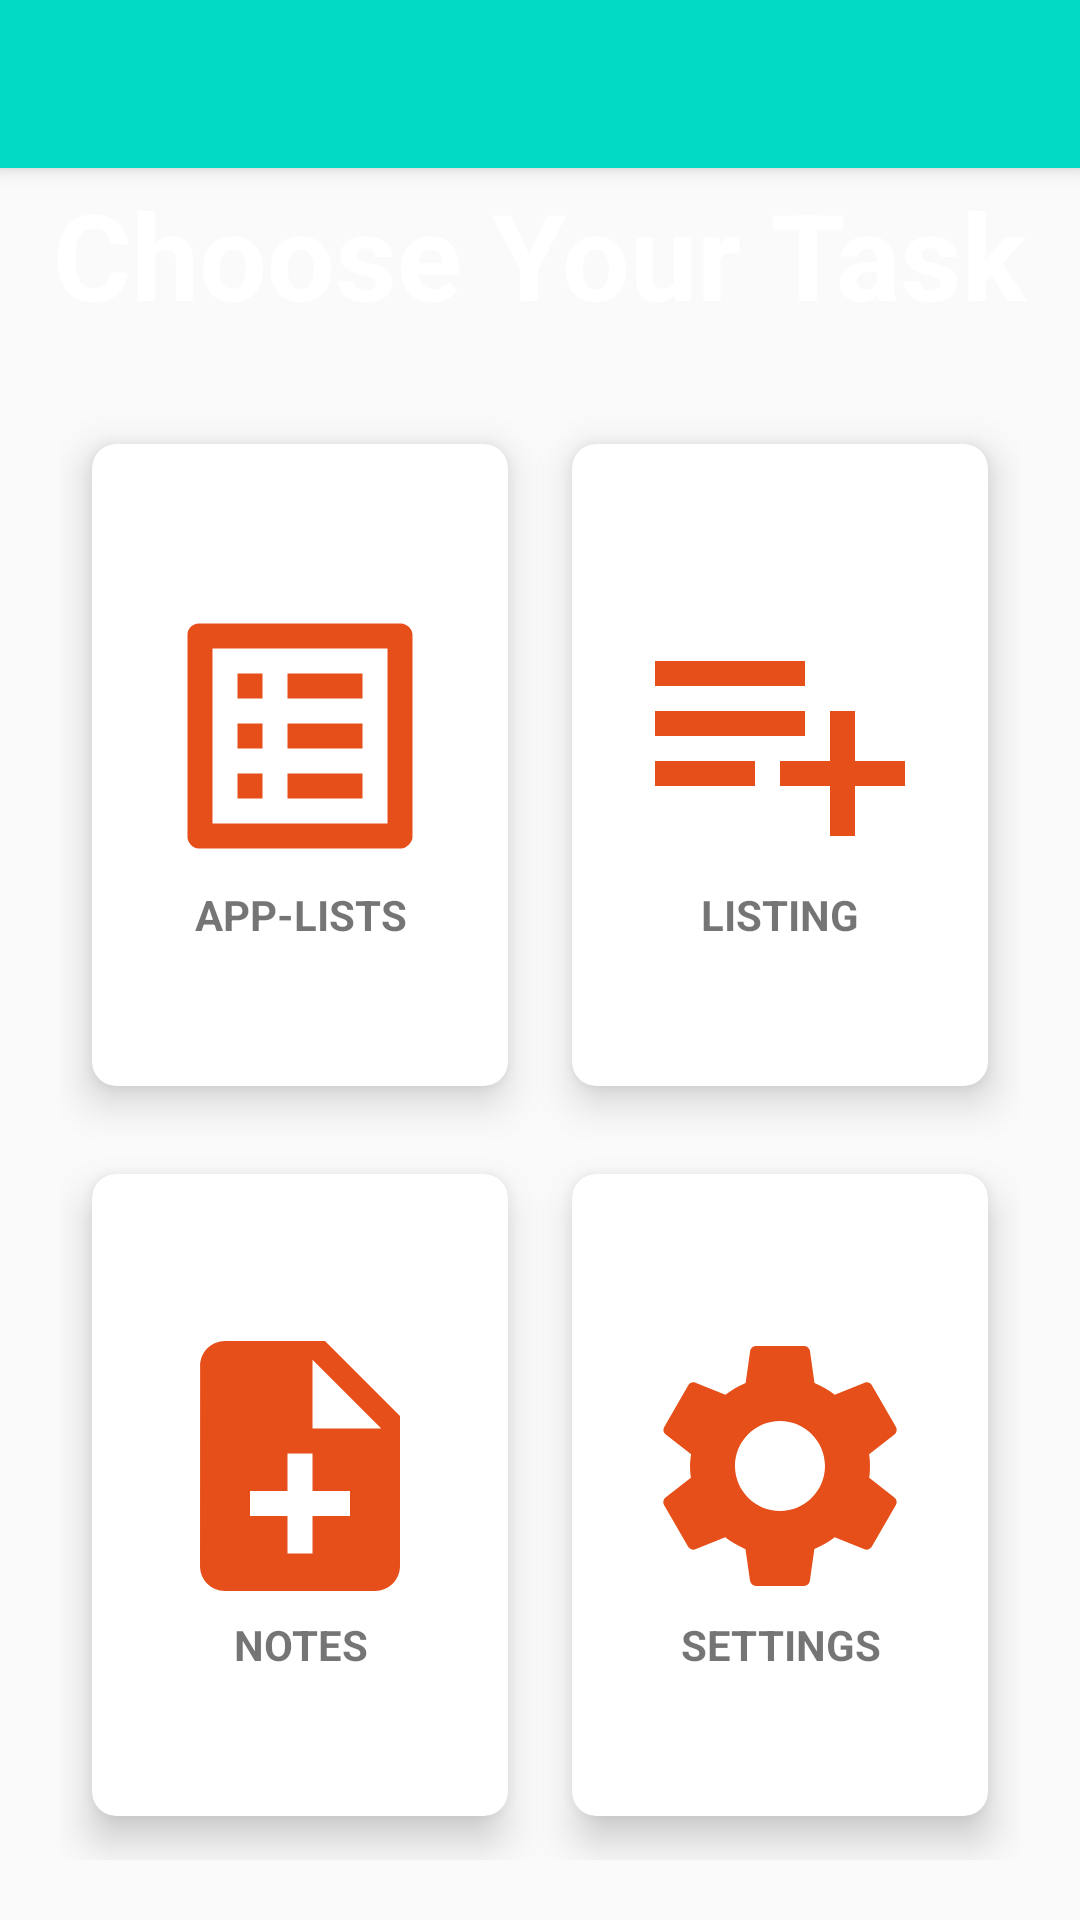

Named icons in this screenshot (1080 × 1920) and their centers, (x,y):
list add: (780,748)
note add: (300,1466)
